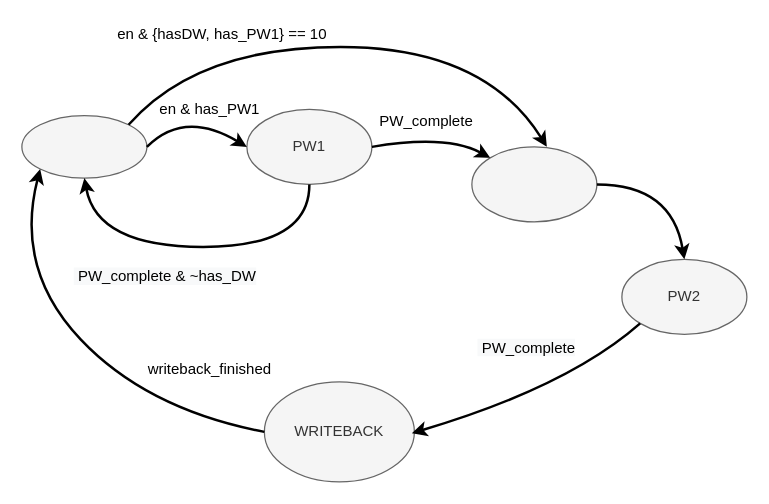
This 769x504 diagram has some shape labels left out. The shapes that lost their labels are listed below. From the top down, each one's centre as x and y in pixels, then its label:
At (84,146): "IDEL".
At (534,184): "DW1".
